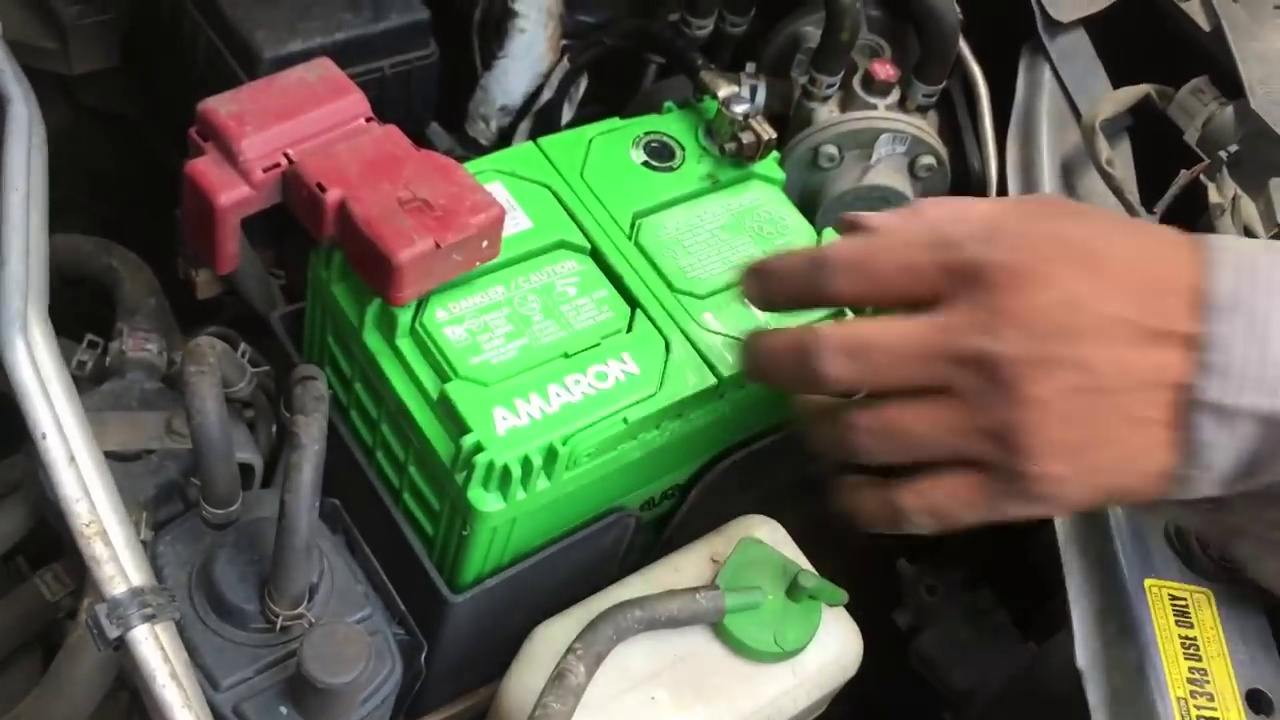battery: (300, 80, 840, 474)
neg_connected: (666, 60, 779, 192)
pos_connected: (241, 57, 504, 323)
